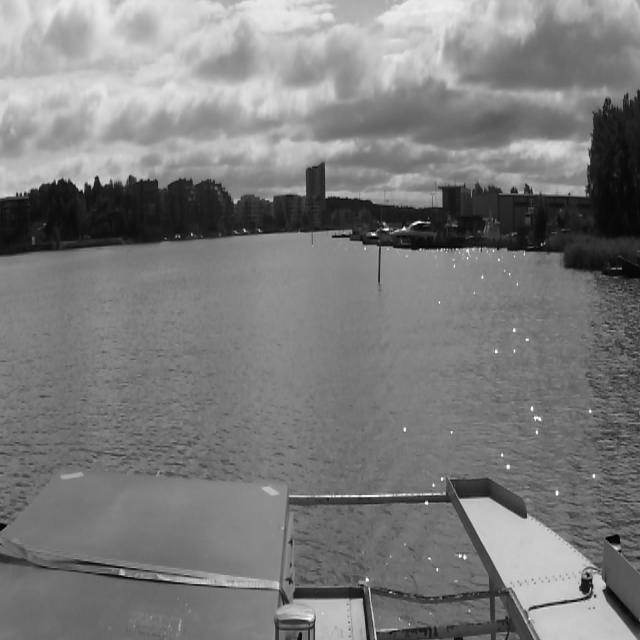buoy: (377, 246, 382, 283)
ship: (390, 220, 436, 247), (446, 221, 458, 239)
